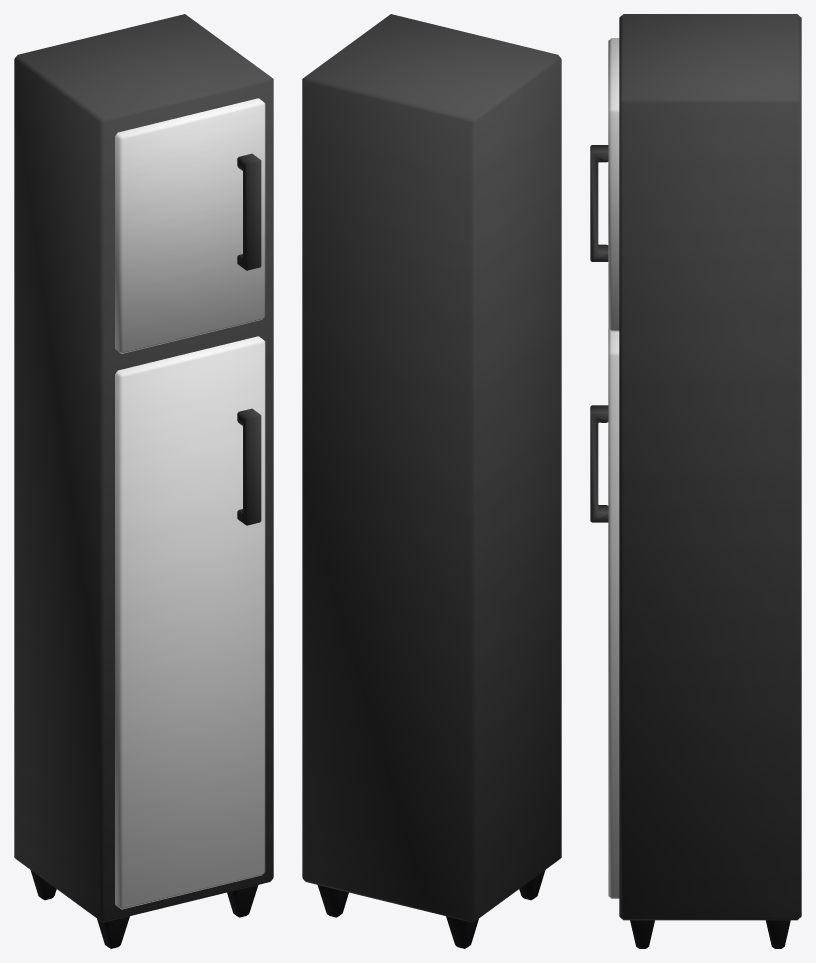
File: SM_Wardrobe_15.fbx
3 views of the same model, side by side, from view 1: azimuth 30°, elevation 25°; view 2: azimuth 150°, elevation 25°; view 3: azimuth 270°, elevation 25° (orthographic). The views are drawn at different scales.
Visible parts, largest first — view 1: SM_Wardrobe_15; view 2: SM_Wardrobe_15; view 3: SM_Wardrobe_15.
Part boxes in pixels (left/top/right/bottom): SM_Wardrobe_15: left=14, top=14, right=273, bottom=948; SM_Wardrobe_15: left=302, top=14, right=561, bottom=948; SM_Wardrobe_15: left=590, top=14, right=801, bottom=948.
Bounding box in the file's own units: 51 × 235 × 52.35.
Materials: 1 (1 with a texture image).
